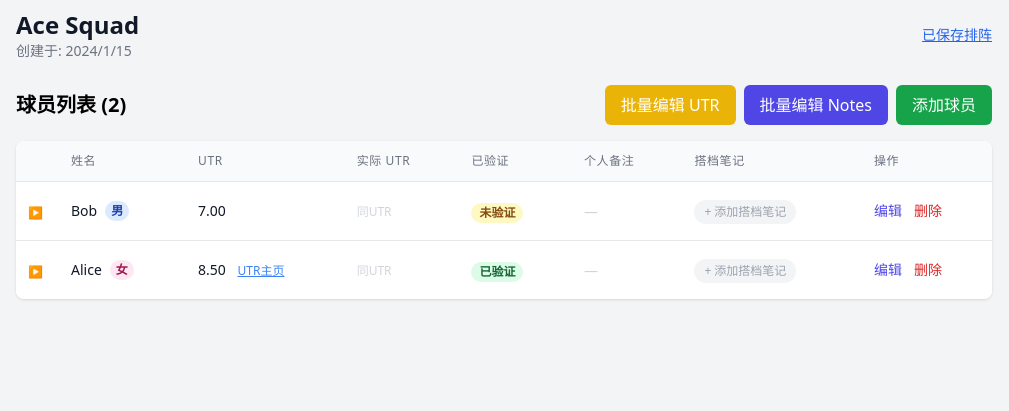
Test: TeamDetail › shows error list when some bulk updates fail
Click the button "批量编辑 UTR".
click(670, 105)  # box [605, 85, 736, 125]
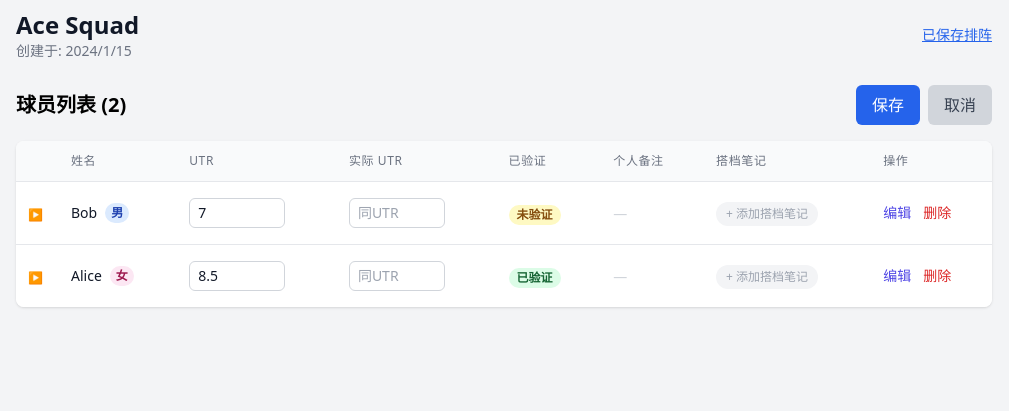
Replace the text in the number field in the row of "Bob" with "9" at (237, 213), box [189, 198, 285, 228]
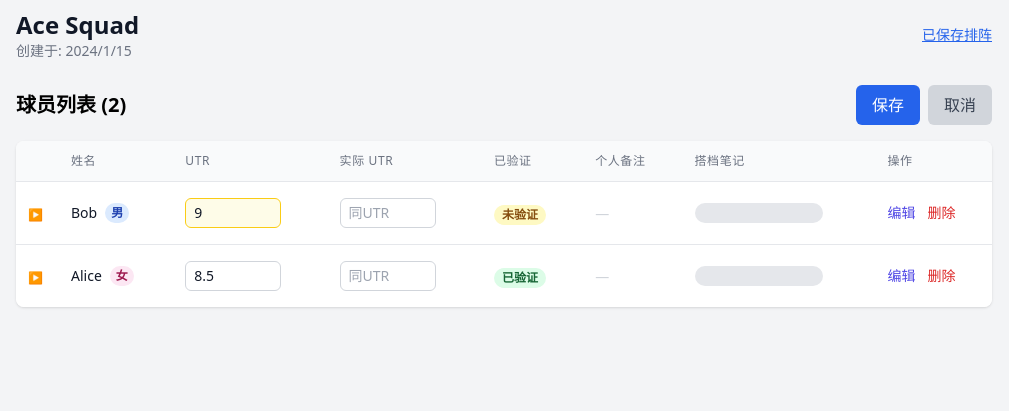
Click the button "保存".
click(888, 105)  # box [856, 85, 920, 125]
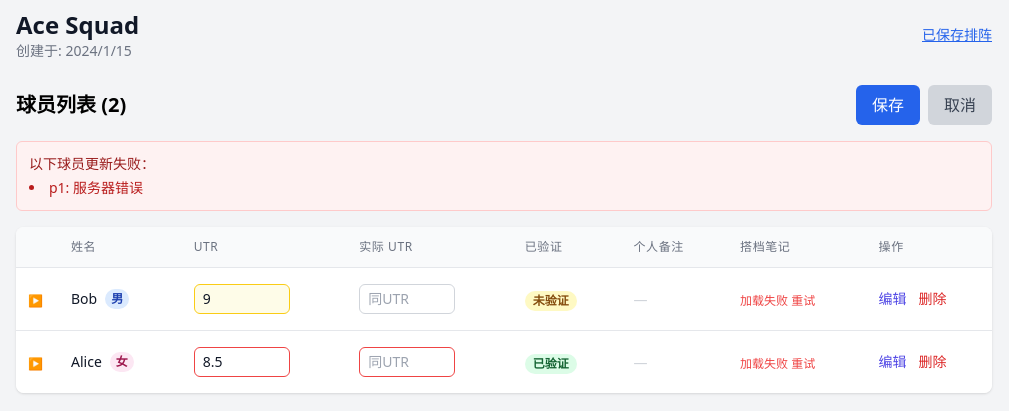
Now the text "以下球员更新失败" is shown, box [29, 154, 155, 173]
Now the text "服务器错误" is shown, box [49, 178, 143, 197]
